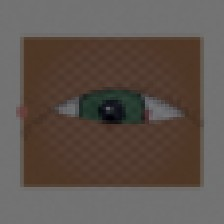hemorrhage_spot: (75, 85, 160, 153)
